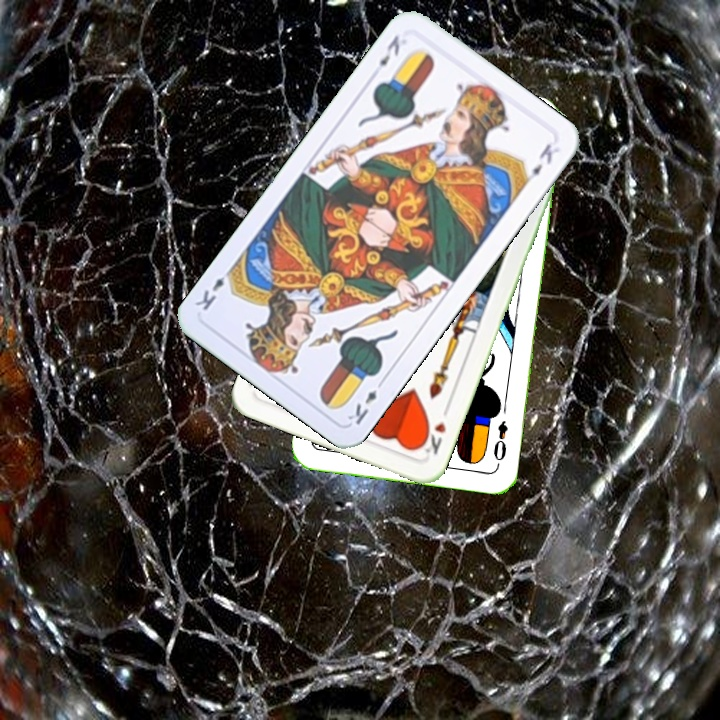EK: (343, 374, 388, 428), (375, 31, 403, 69)
EO: (489, 416, 510, 469)
HK: (415, 402, 453, 458)
